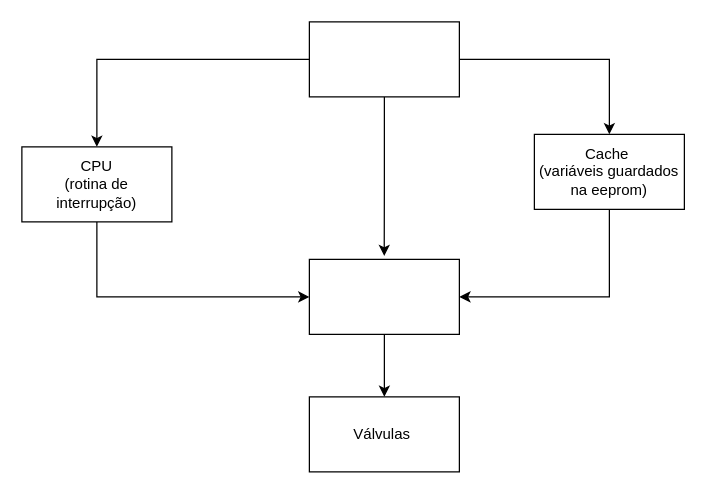
The diagram is 706 pixels wide and 494 high, and some of its shapes have lost their labels. The shapes that lost their labels are listed below. From the top down, each one's centre as x and y in pixels, then its label:
pixel 383 59: PIC uP
pixel 383 296: LCD
